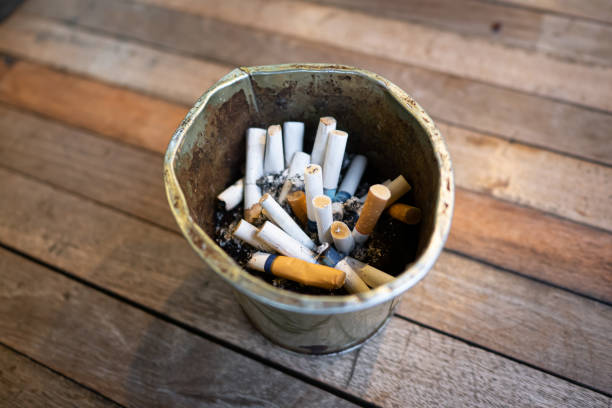cigarette: (245, 252, 349, 289), (261, 192, 317, 252), (255, 219, 318, 264), (316, 244, 370, 296), (353, 182, 392, 243), (244, 126, 269, 210), (321, 129, 349, 201), (277, 151, 310, 207), (344, 255, 396, 288), (336, 154, 368, 205), (309, 115, 337, 165), (264, 121, 286, 175), (283, 120, 306, 166), (217, 177, 247, 212), (312, 194, 333, 244), (305, 164, 322, 224), (385, 174, 412, 209), (329, 219, 357, 252), (231, 217, 259, 247), (389, 202, 423, 225), (288, 189, 309, 222)
